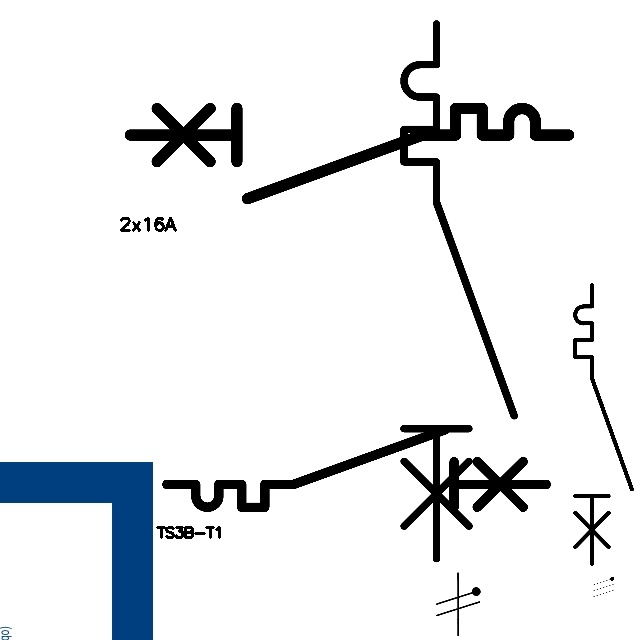interruptor_termomagnetico: (390, 10, 527, 572), (119, 97, 580, 209), (157, 420, 556, 517), (568, 278, 639, 571)
